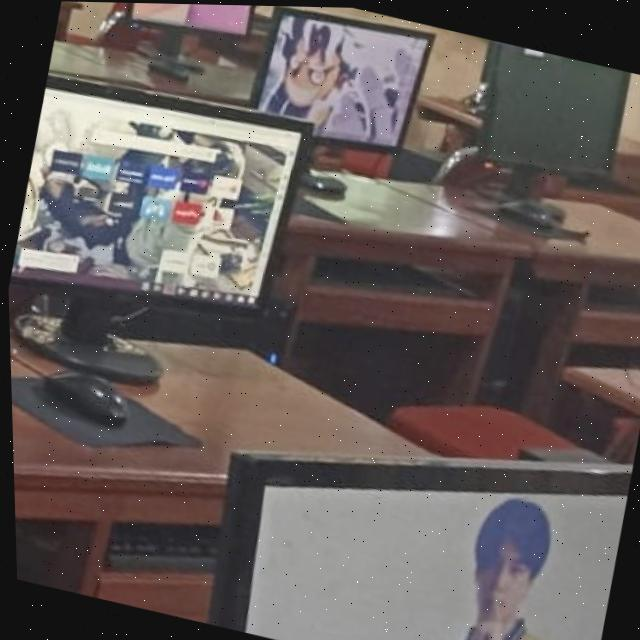offscreen: (483, 42, 629, 173)
onscreen: (10, 73, 305, 303), (241, 485, 623, 640), (252, 8, 431, 142), (134, 2, 250, 33)
